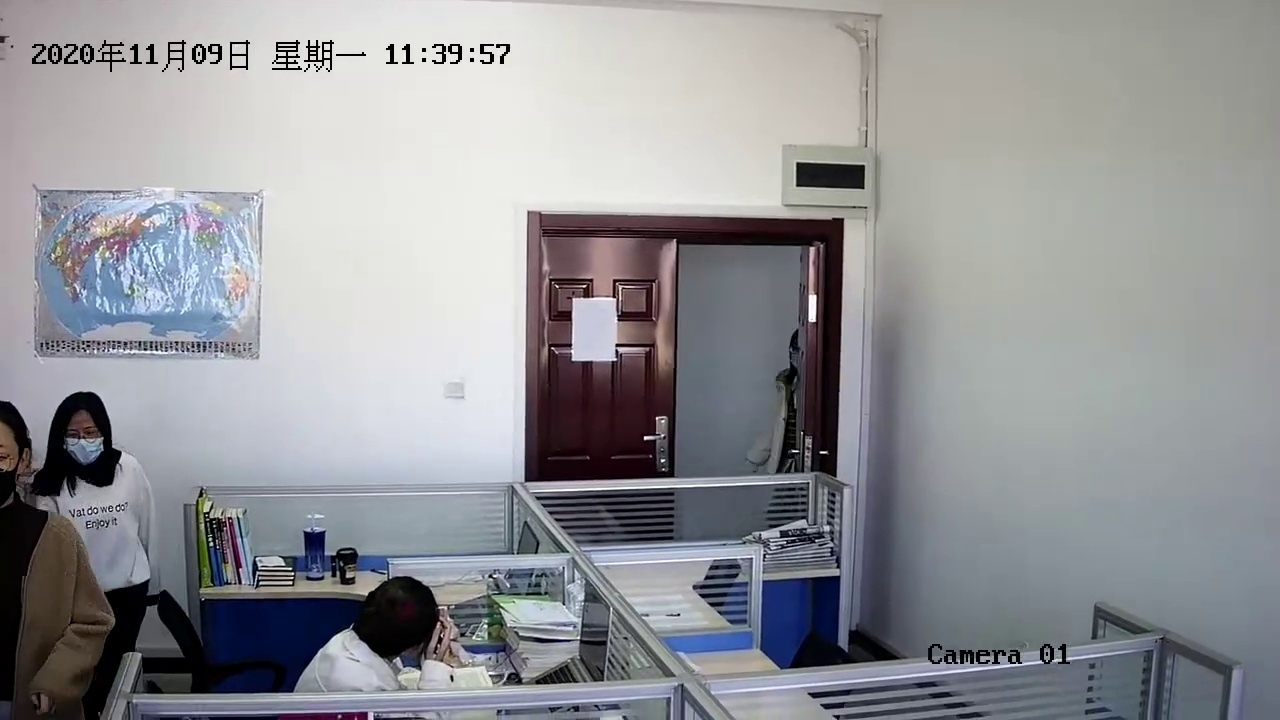mask: (58, 397, 107, 467)
